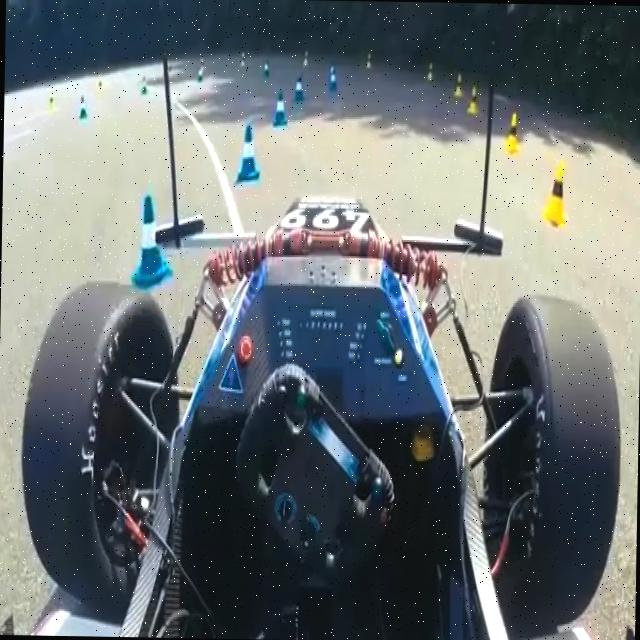blue_cone: (130, 195, 173, 293), (237, 124, 260, 182), (272, 92, 288, 126), (293, 76, 304, 102), (328, 67, 338, 92), (79, 96, 87, 119)
yellow_cone: (541, 164, 567, 226), (502, 112, 522, 154), (467, 86, 479, 112), (454, 74, 464, 98)
